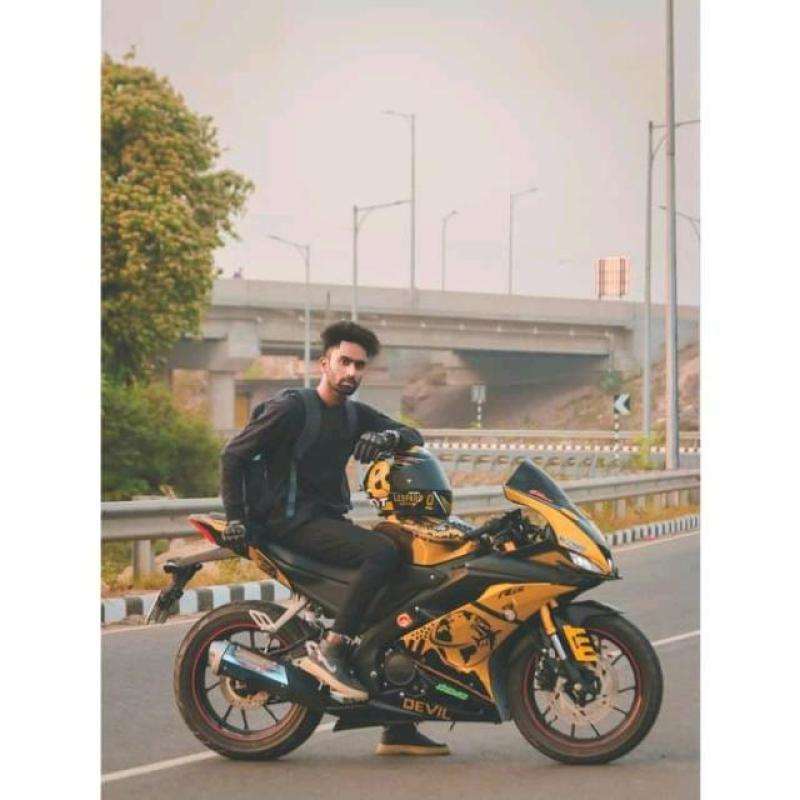nohelmet: (319, 310, 380, 399)
